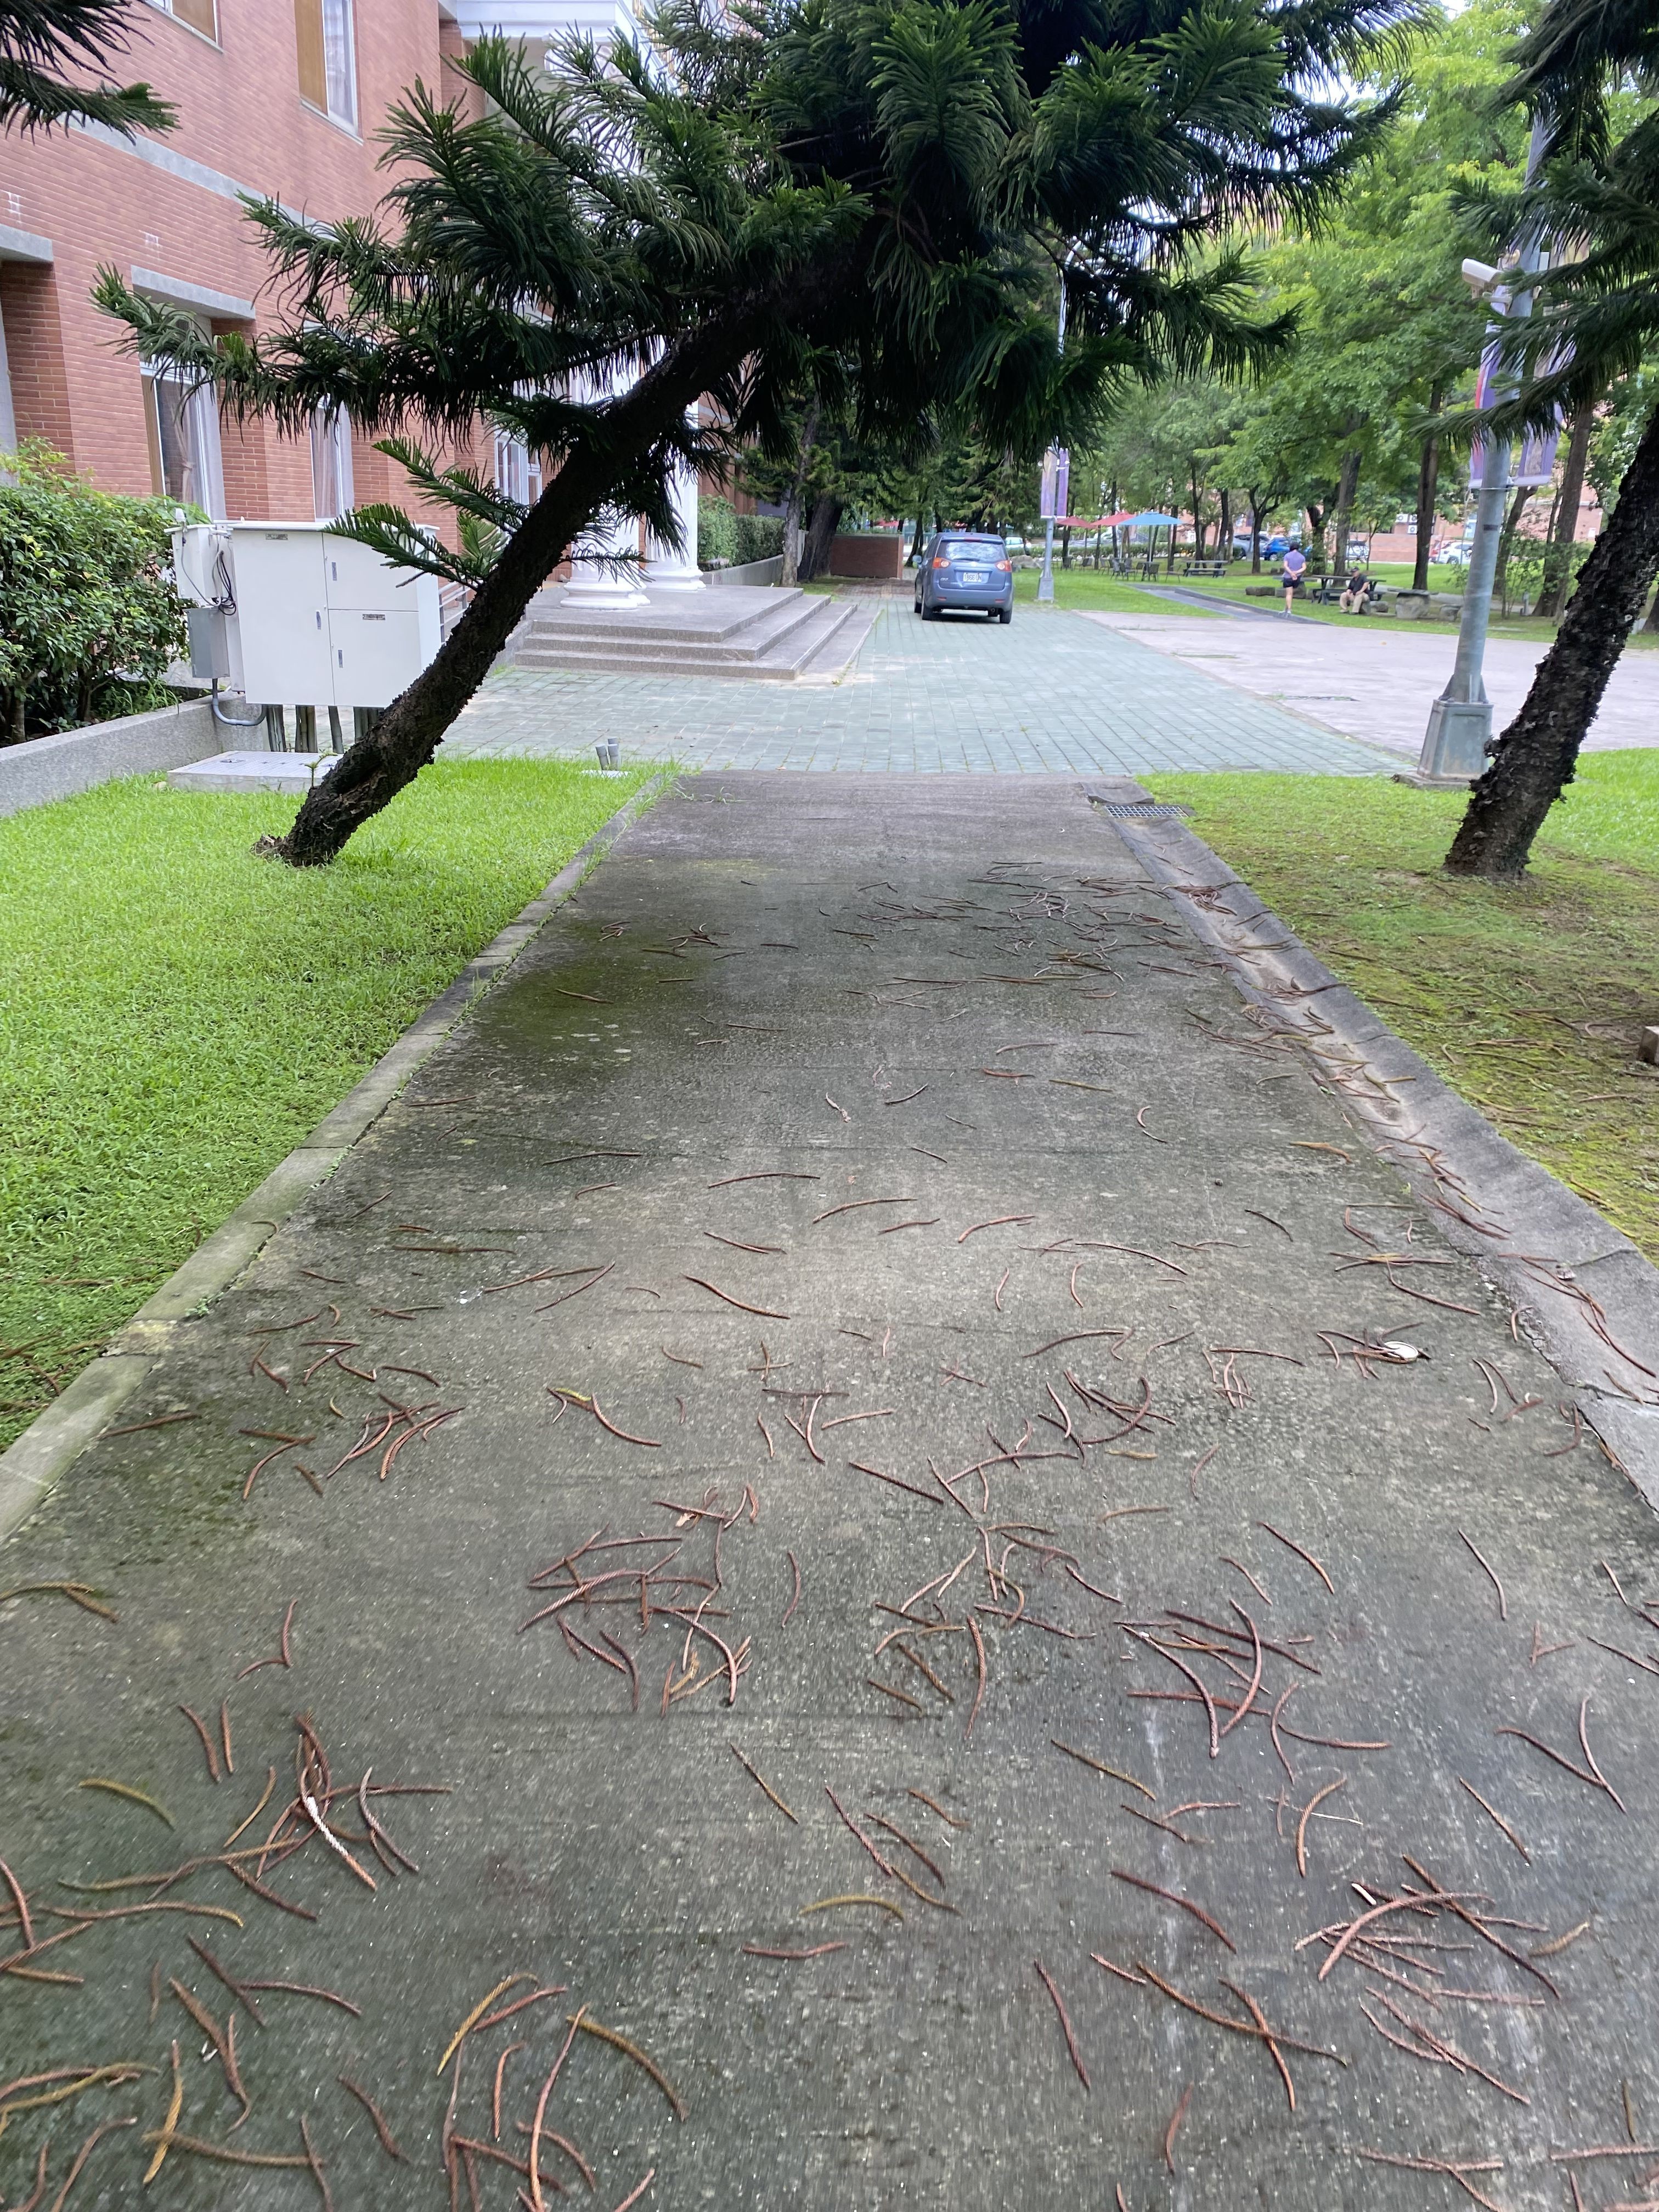0: (394, 538, 1424, 894)
sidewalk: (3, 740, 1659, 2212)
